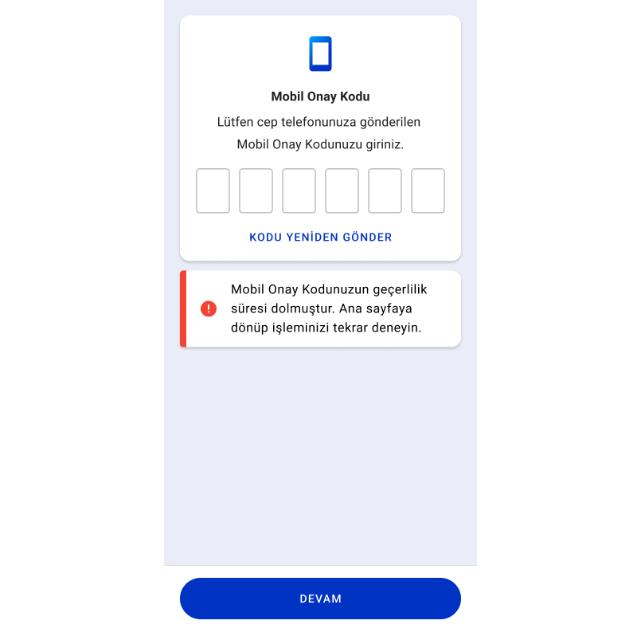QLabel: (227, 282, 428, 338), (213, 113, 421, 131), (234, 138, 404, 152), (246, 230, 392, 244), (268, 89, 370, 105), (296, 592, 346, 606)
QOtp: (190, 165, 446, 218)
VAlert: (178, 268, 462, 349)
VBtn: (180, 579, 460, 621), (243, 226, 394, 247)
VCard: (179, 15, 459, 262)
VFooter: (164, 564, 476, 640)
VIcon: (200, 300, 216, 318)
VImg: (306, 34, 332, 74)
